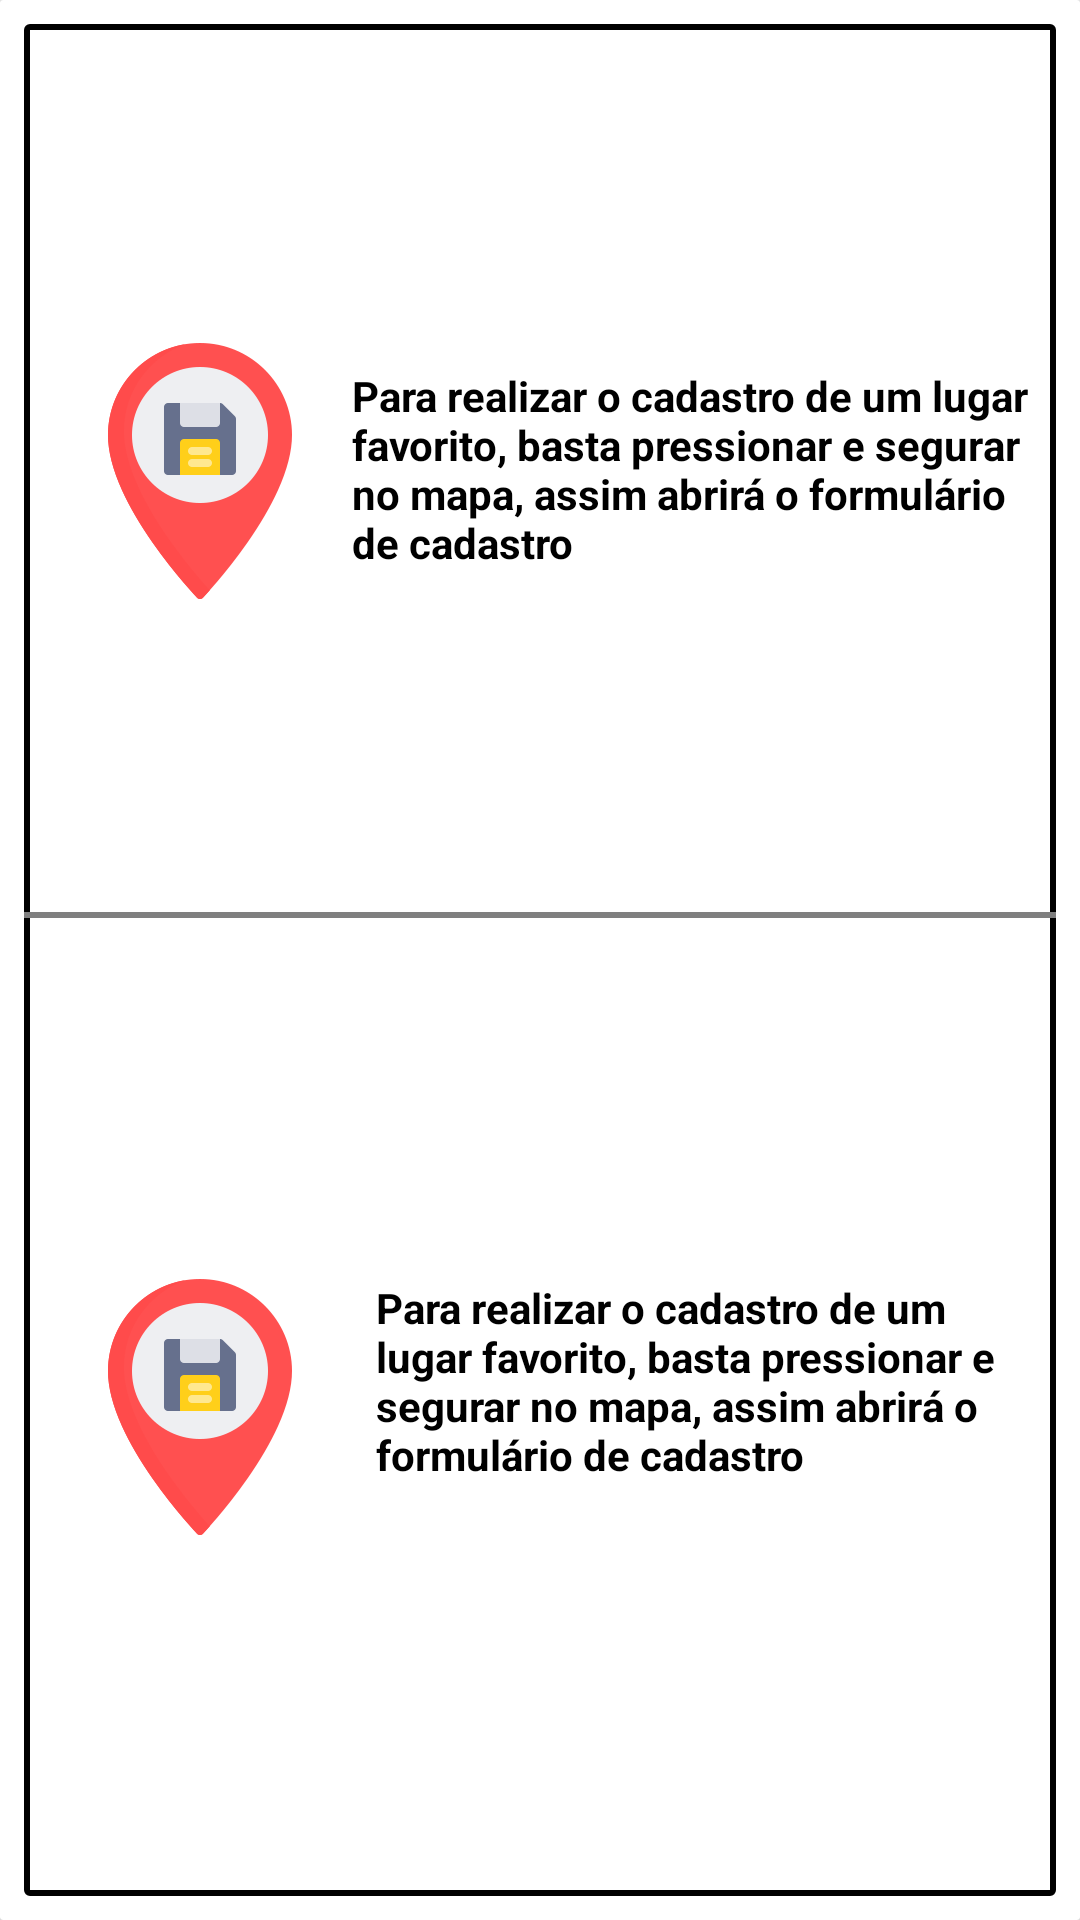

Screen size 1080x1920. Icon name, then its box in pixels as (x1, y1, x2, y2):
maps and location: (108, 343, 292, 599), (108, 1279, 292, 1535)
